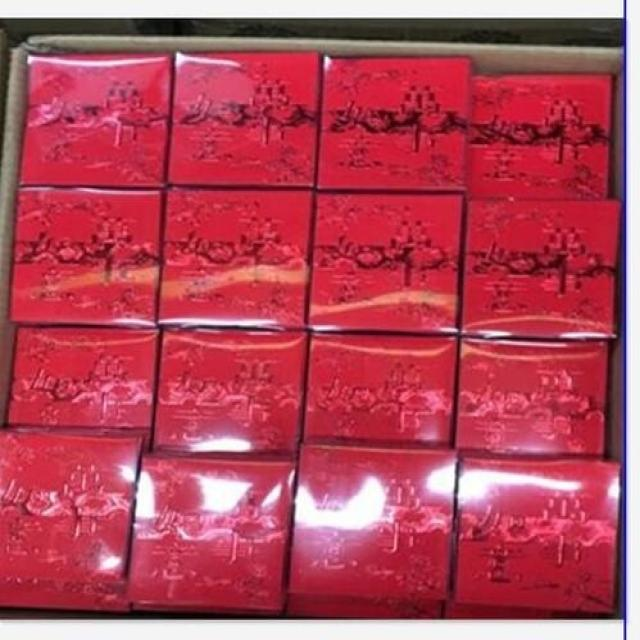box: (450, 451, 621, 614), (126, 455, 294, 611), (290, 443, 453, 601), (0, 428, 148, 593), (307, 192, 466, 335), (461, 197, 618, 341), (154, 189, 316, 328), (165, 49, 322, 189), (18, 51, 173, 189), (314, 57, 470, 191), (151, 327, 307, 461), (12, 187, 163, 324), (455, 335, 608, 459), (465, 74, 612, 201), (303, 330, 459, 447), (6, 324, 159, 426), (0, 576, 131, 610), (286, 595, 445, 618), (445, 601, 613, 618)
